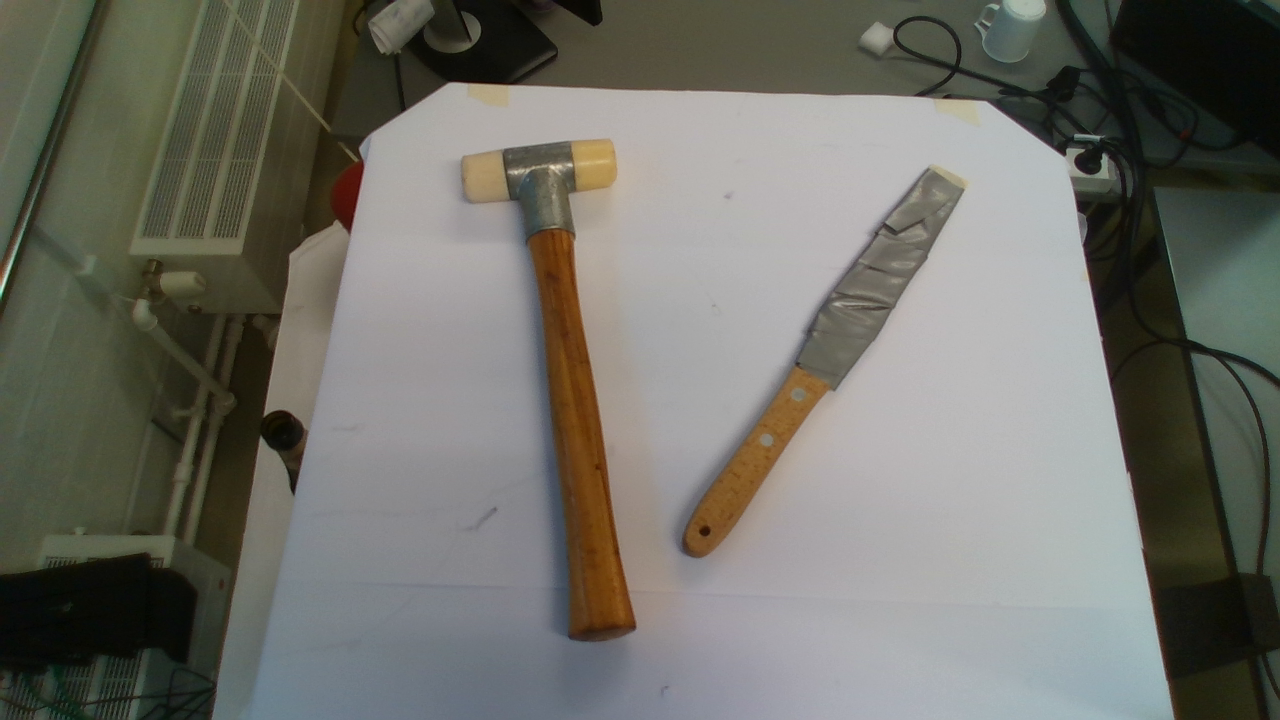hammer: (458, 139, 637, 643)
knife: (678, 162, 968, 561)
